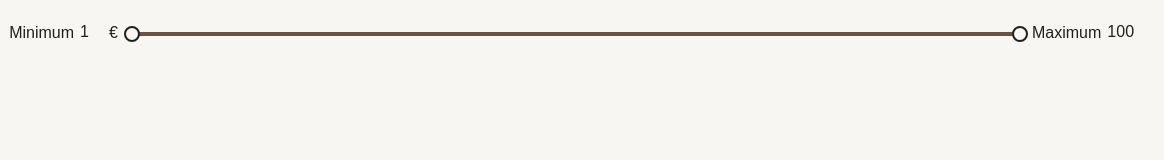
Range › continuous mode › shows an error when the maximum is above the allowed range
The image size is (1164, 160).
Step 1. Clear the number field labelled "Maximum" → (1129, 32), box [1105, 16, 1152, 49]
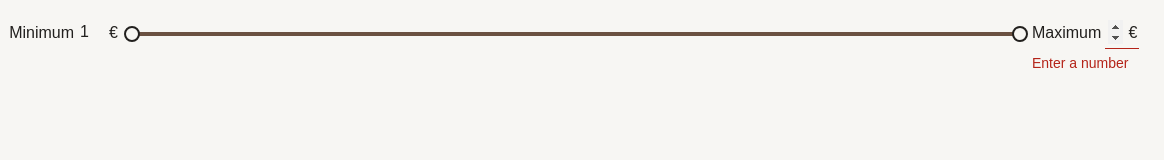
Step 2. Type "101" into the number field labelled "Maximum" → (1122, 32), box [1105, 16, 1139, 49]
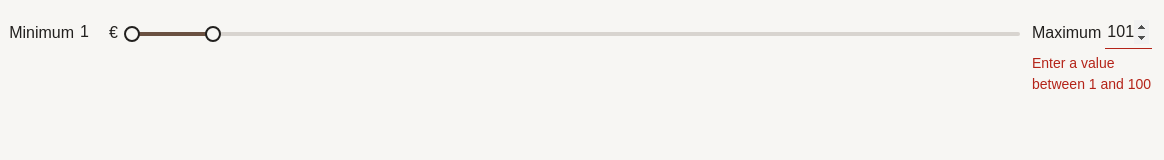
expect the text "Enter a value between 1 and 100" is shown: met, box [1032, 53, 1152, 95]
